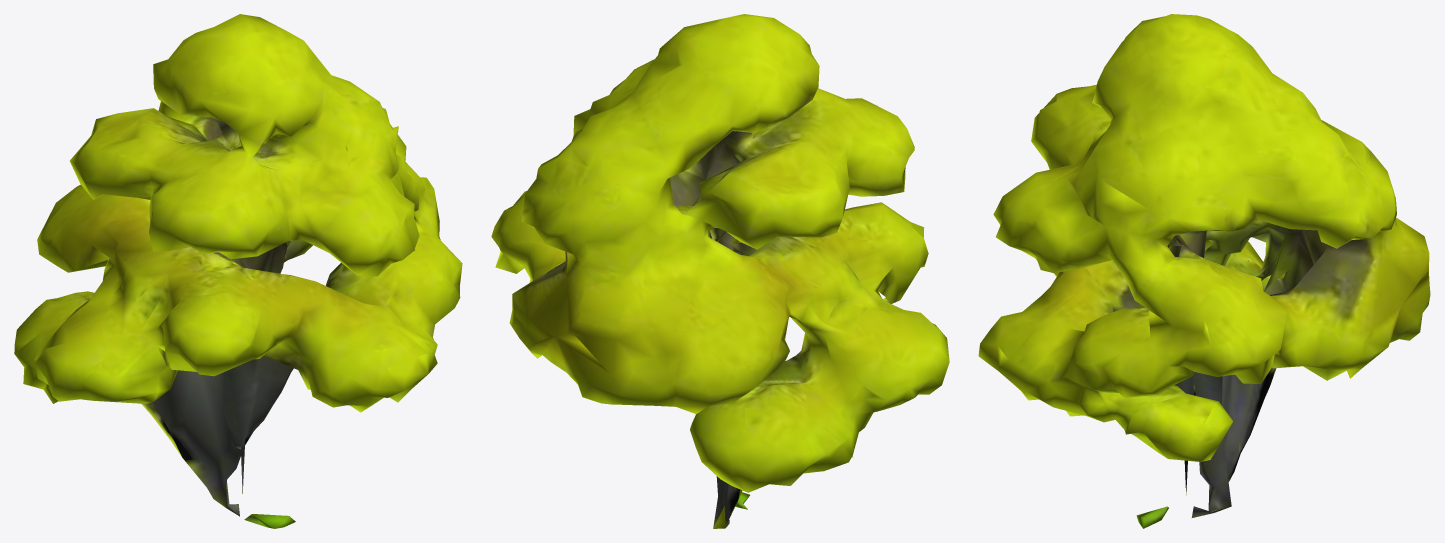
File: tree_ginkgo.glb
3 renders of one model, left to right at view 1: azimuth 30°, elevation 25°; view 2: azimuth 150°, elevation 25°; view 3: azimuth 270°, elevation 25°, orthographic.
Visible parts, largest first — view 1: tree_ginkgo; view 2: tree_ginkgo; view 3: tree_ginkgo.
Boxes of the visible parts, x1,y1,x2,y2 form: tree_ginkgo: [14, 14, 462, 528]; tree_ginkgo: [491, 14, 949, 528]; tree_ginkgo: [978, 14, 1430, 528].
Bounding box in the file's own units: 8.54 × 9.86 × 8.13.
1 material, 1 textured.
